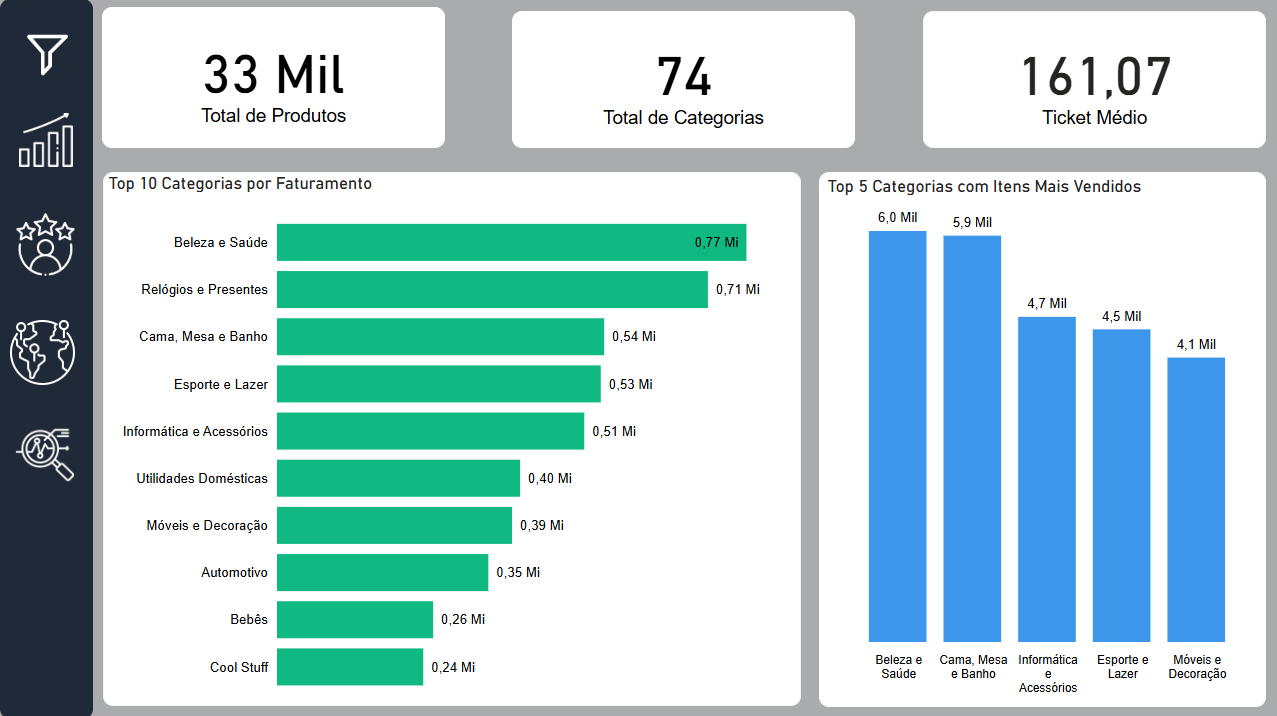

What the dashboard file says about the page in this screenshot:
{"tool":"powerbi","page":{"name":"Performance de Categorias","canvas":[1280,720],"ordinal":3},"visuals":[{"type":"clusteredBarChart","title":"Top 10 Categorias por Faturamento","fields":{"Category":["dim_produto.categoria_produto"],"Y":["Medidas.Receita_Produtos"]},"box":[102.8,173,698.5,533.7],"z":0},{"type":"clusteredColumnChart","title":"Top 5 Categorias com Itens Mais Vendidos","fields":{"Category":["dim_produto.categoria_produto"],"Y":["Medidas.Quantidade_Itens_Vendidos"]},"box":[819.2,173,447.2,535.3],"z":1000},{"type":"shape","box":[0,0,93,719.7],"z":2000},{"type":"image","box":[19.7,18.2,53,74.2],"z":3000},{"type":"image","box":[0,109,92.4,63.6],"z":4000},{"type":"image","box":[0,205.9,92.4,78.7],"z":5000},{"type":"image","box":[0,420.9,90.9,69.7],"z":6000},{"type":"image","box":[0,316.5,86.3,74.2],"z":7000},{"type":"card","fields":{"Values":["Medidas.Total_de_Produtos_Por_Categoria"]},"box":[512.3,11.8,342.8,136.9],"z":8000},{"type":"card","fields":{"Values":["Medidas.Ticket_Medio"]},"box":[923.1,11.8,342.8,136.9],"z":9000},{"type":"card","fields":{"Values":["Medidas.Total_de_Produtos"]},"box":[102.5,8.2,342.8,140.6],"z":10000}]}

Visuals, with their boxes on the page's 1280x720 design canvas (x1, y1, x2, y2). These are canvas units, not pixel positions in the 1277x716 screenshot, which may show the page scaled, cropped or inside an application window:
"Top 10 Categorias por Faturamento" clusteredBarChart: left=103, top=173, right=801, bottom=707
"Top 5 Categorias com Itens Mais Vendidos" clusteredColumnChart: left=819, top=173, right=1266, bottom=708
shape: left=0, top=0, right=93, bottom=720
image: left=20, top=18, right=73, bottom=92
image: left=0, top=109, right=92, bottom=173
image: left=0, top=206, right=92, bottom=285
image: left=0, top=421, right=91, bottom=491
image: left=0, top=316, right=86, bottom=391
card - Medidas.Total_de_Produtos_Por_Categoria: left=512, top=12, right=855, bottom=149
card - Medidas.Ticket_Medio: left=923, top=12, right=1266, bottom=149
card - Medidas.Total_de_Produtos: left=102, top=8, right=445, bottom=149
